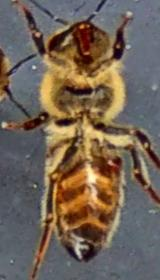varroa_mite: (100, 146, 134, 188)
